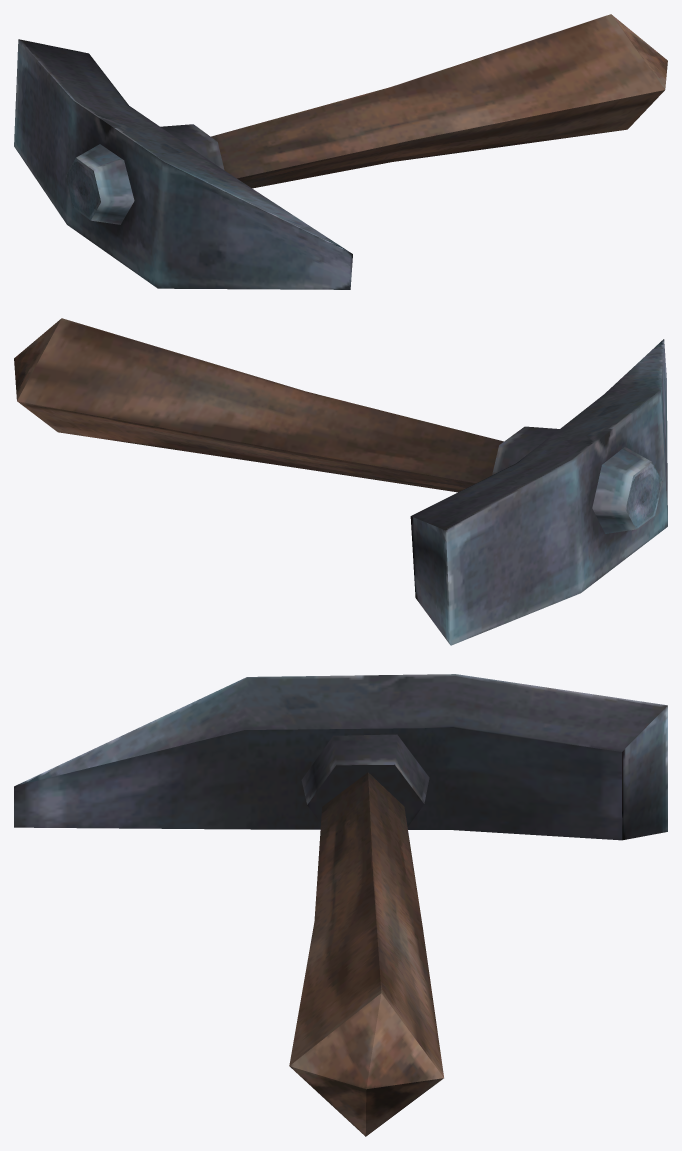
File: mine_pick01.fbx
3 views of the same model, one above another, from view 1: azimuth 30°, elevation 25°; view 2: azimuth 150°, elevation 25°; view 3: azimuth 270°, elevation 25° (orthographic). The views are drawn at different scales.
Parts seen in each view (by area): view 1: mine_pick01; view 2: mine_pick01; view 3: mine_pick01.
Part boxes in pixels (box(x1,y1,x2,y2)): mine_pick01: box(14, 14, 667, 289); mine_pick01: box(14, 318, 667, 645); mine_pick01: box(14, 674, 667, 1136).
Bounding box in the file's own units: 1.4 × 0.2929 × 1.11.
